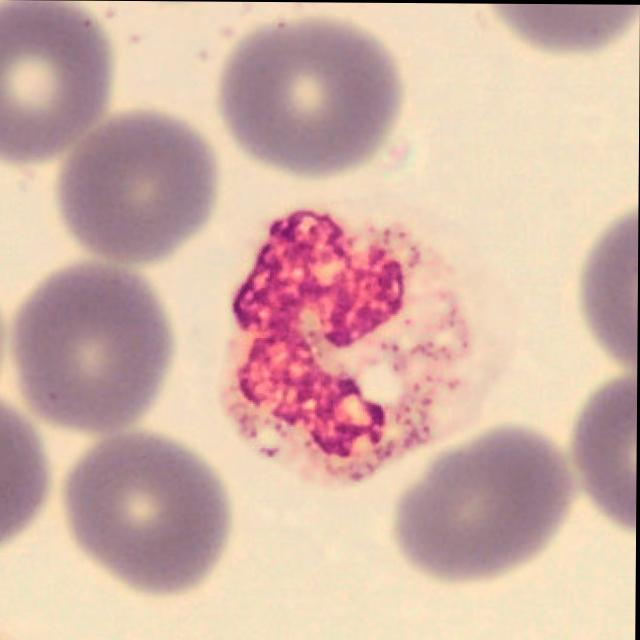Neutrofilo segmentado: (218, 210, 478, 489)
